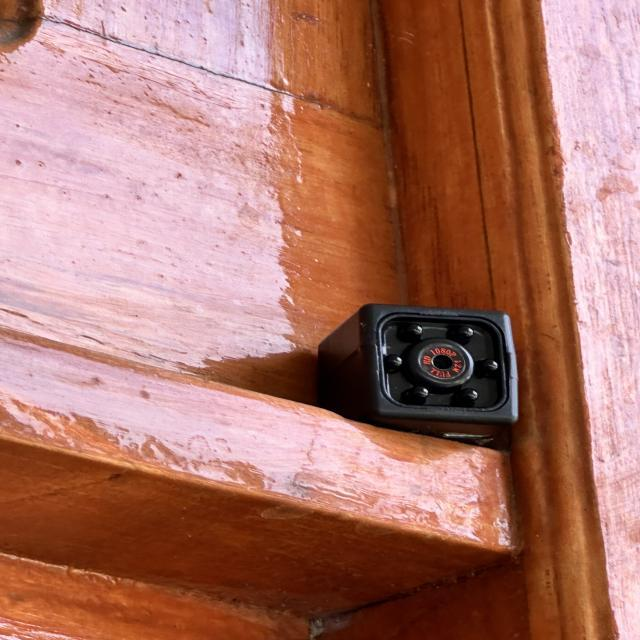hidden camera: (417, 342, 469, 380)
